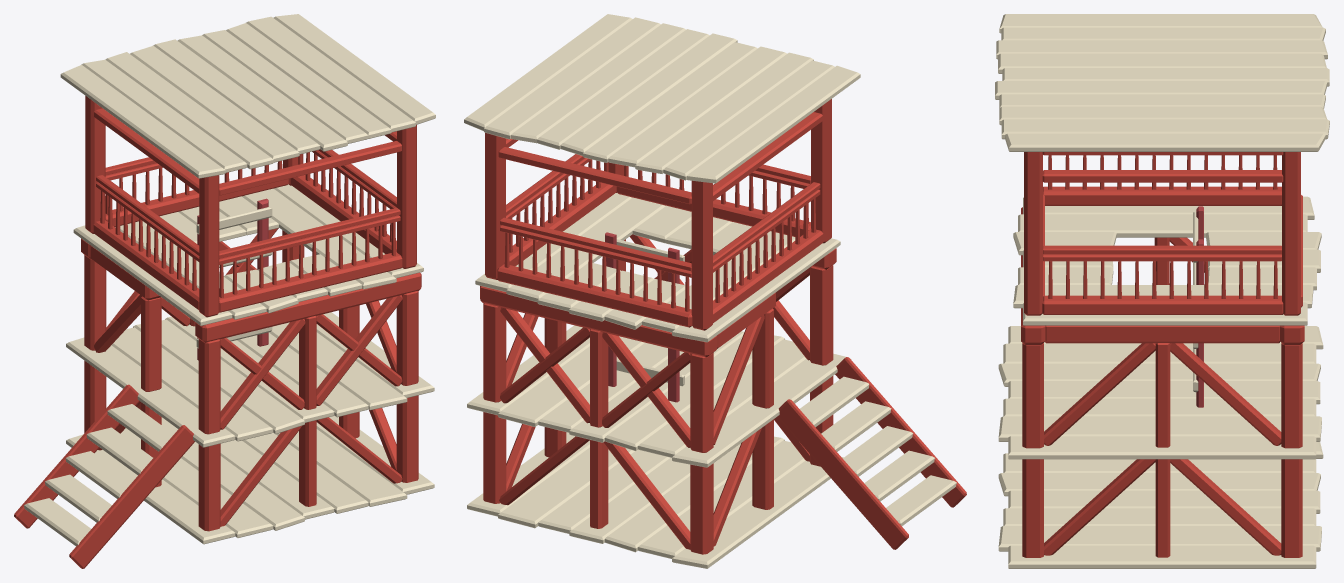
Rendered from farmstractures_09.gltf.
The picture shows the model from 3 angles, left to right: view 1: azimuth 30°, elevation 25°; view 2: azimuth 150°, elevation 25°; view 3: azimuth 270°, elevation 25°; orthographic projection. The views are drawn at different scales.
Parts seen in each view (by area): view 1: body, blades; view 2: body, blades; view 3: body, blades.
Boxes of the visible parts, <box> form: body: <box>14,111,435,568</box>; blades: <box>60,14,432,342</box>; body: <box>464,114,966,568</box>; blades: <box>467,14,860,357</box>; body: <box>995,14,1329,568</box>; blades: <box>995,14,1329,343</box>.
Bounding box in the file's own units: 5.29 × 5.42 × 3.82.
Materials: 1 (1 with a texture image).
